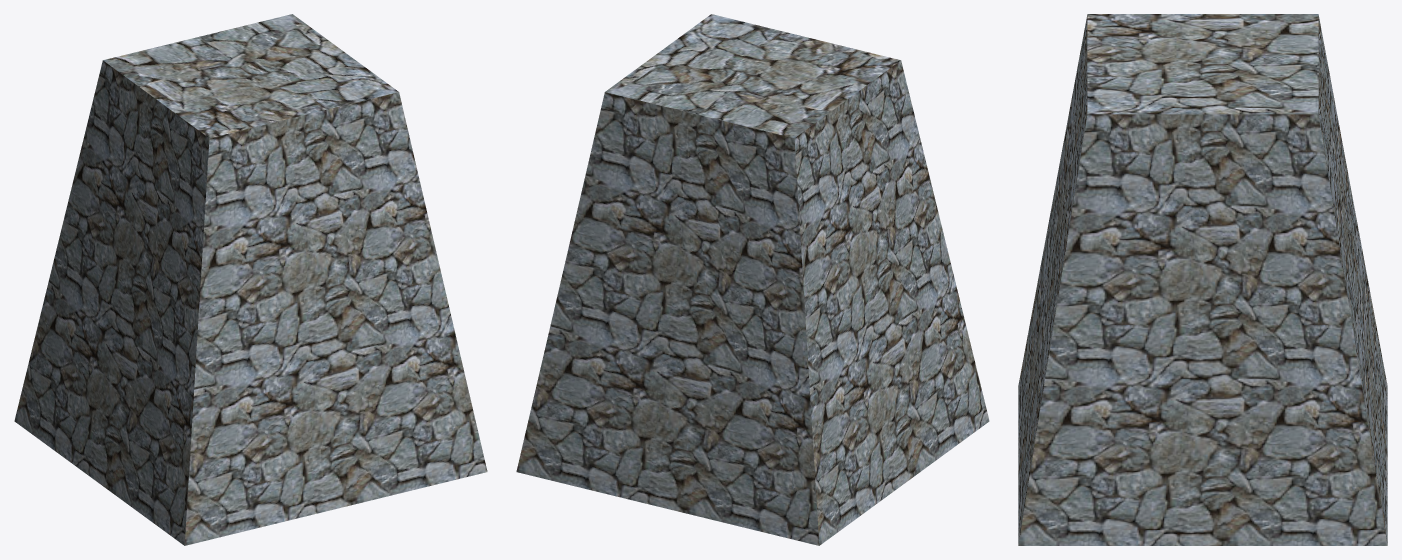
File: ishigaki.fbx
3 views of the same model, side by side, from view 1: azimuth 30°, elevation 25°; view 2: azimuth 150°, elevation 25°; view 3: azimuth 270°, elevation 25° (orthographic). The views are drawn at different scales.
Visible parts, largest first — view 1: 立方体; view 2: 立方体; view 3: 立方体.
Boxes of the visible parts, x1=… form: 立方体: x1=14, y1=14, x2=487, y2=545; 立方体: x1=516, y1=14, x2=989, y2=545; 立方体: x1=1018, y1=14, x2=1387, y2=545.
Bounding box in the file's own units: 9.78 × 11.43 × 9.52.
Materials: 1 (1 with a texture image).
